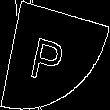P_N: (35, 26, 75, 84)
